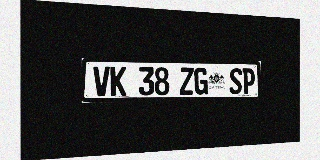3: (139, 67, 154, 95)
8: (154, 67, 169, 95)
G: (194, 67, 208, 95)
K: (110, 66, 126, 96)
P: (242, 68, 255, 94)
S: (229, 68, 242, 94)
V: (93, 66, 110, 96)
Z: (180, 67, 194, 95)
